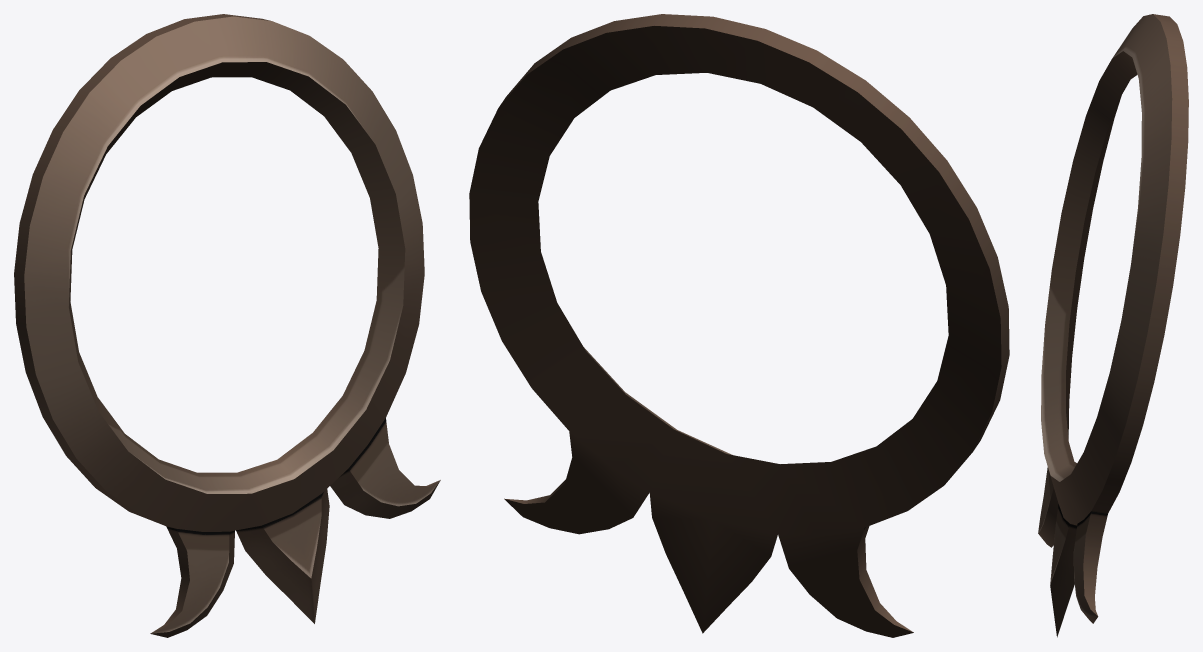
File: Battleship.glb
3 views of the same model, side by side, from view 1: azimuth 30°, elevation 25°; view 2: azimuth 150°, elevation 25°; view 3: azimuth 270°, elevation 25° (orthographic). The views are drawn at different scales.
Parts seen in each view (by area): view 1: SkillObj_Navia_Battleship_LOD0; view 2: SkillObj_Navia_Battleship_LOD0; view 3: SkillObj_Navia_Battleship_LOD0.
Boxes of the visible parts, bbox=[...] form: SkillObj_Navia_Battleship_LOD0: bbox=[14, 14, 440, 637]; SkillObj_Navia_Battleship_LOD0: bbox=[469, 14, 1009, 637]; SkillObj_Navia_Battleship_LOD0: bbox=[1038, 14, 1188, 637].
Size of the model in its own units: 0.6328 by 0.8239 by 0.1983.
Materials: 1 (1 with a texture image).
